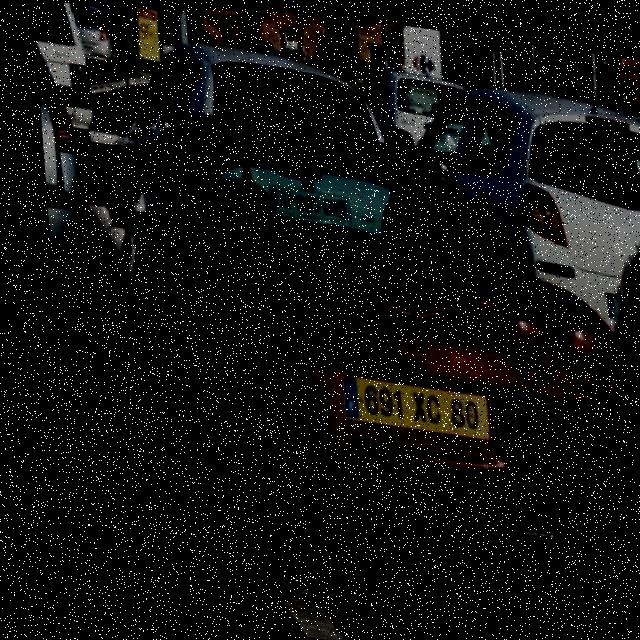license_plate: (322, 370, 479, 438), (260, 185, 343, 220), (592, 286, 612, 314), (431, 126, 458, 144), (82, 44, 90, 54)
